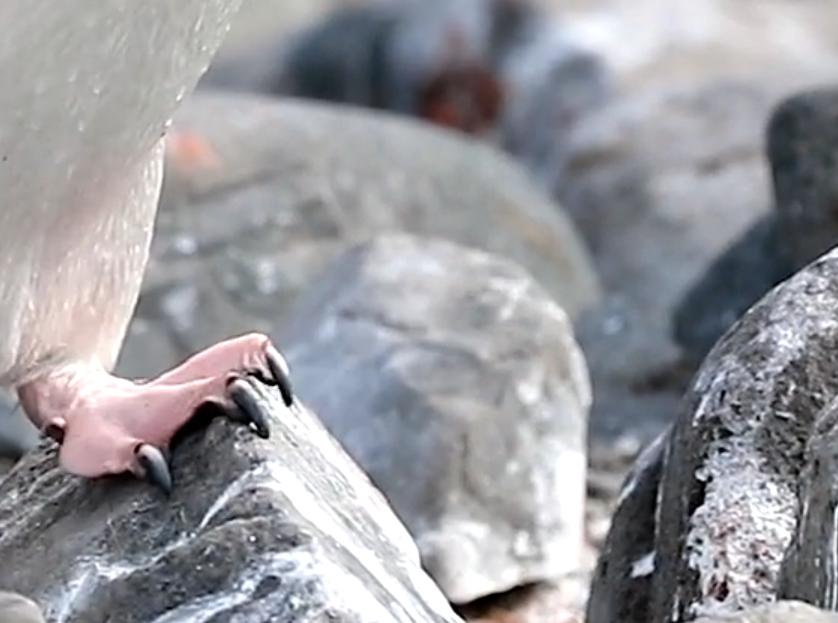Chinstrap Penguin: (0, 0, 644, 516)
